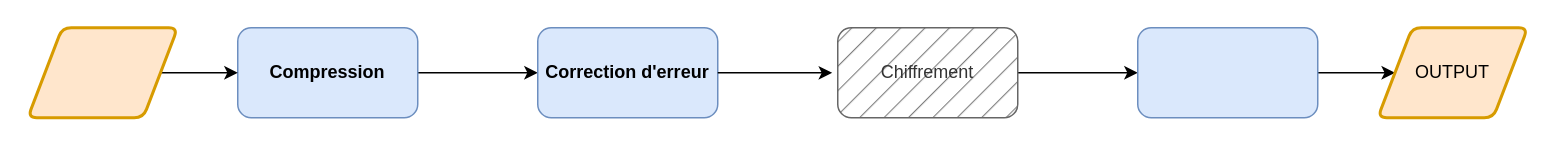
Some shapes in this 1554 by 144 pixel diagram are drawn without their labels. Here are the shapes that lost their labels. From the top down, the centre of each, then its label:
(102,72): INPUT
(1227,72): Mise en Trame
